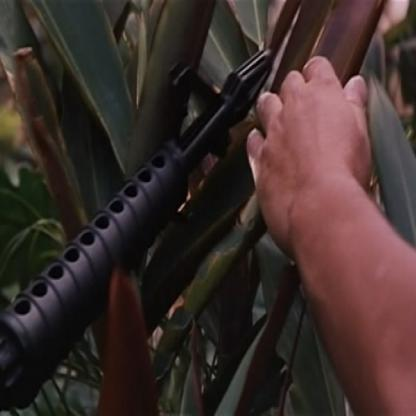Guns: (0, 39, 273, 415)
